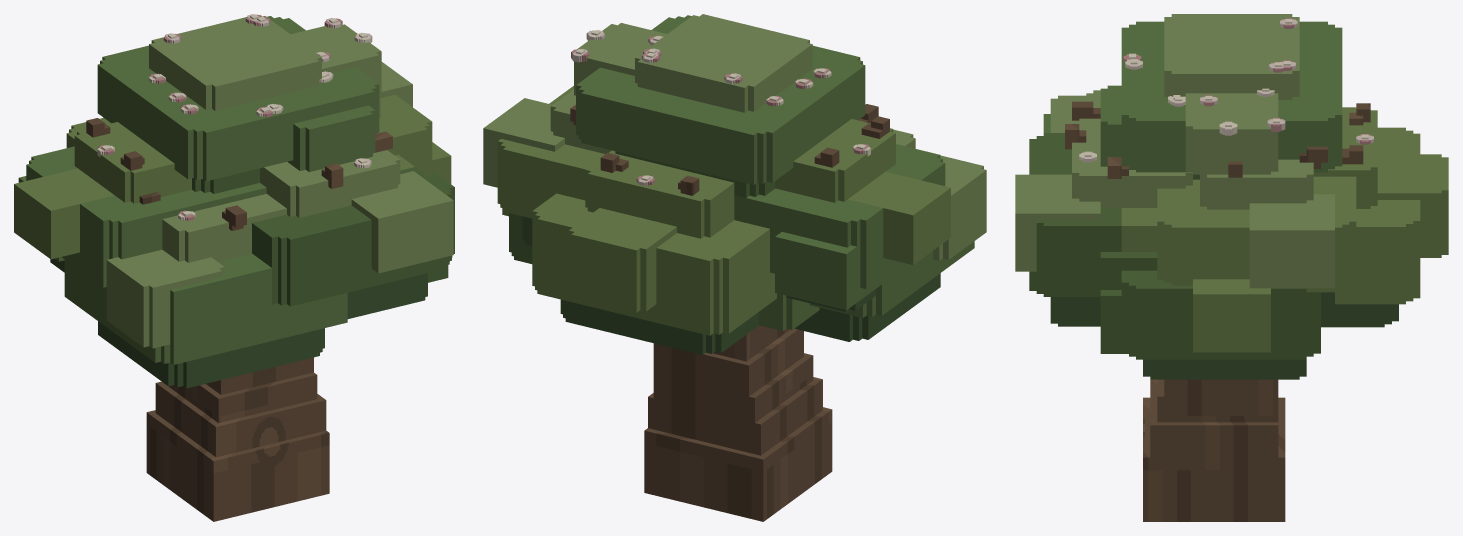
Rendered from apple_ancient_spring.glb.
3 renders of one model, left to right at view 1: azimuth 30°, elevation 25°; view 2: azimuth 150°, elevation 25°; view 3: azimuth 270°, elevation 25°, orthographic. The views are drawn at different scales.
Visible parts, largest first — view 1: VoxelVisual; view 2: VoxelVisual; view 3: VoxelVisual.
Part boxes in pixels (x1=…): VoxelVisual: x1=14, y1=14, x2=454, y2=521; VoxelVisual: x1=483, y1=14, x2=986, y2=521; VoxelVisual: x1=1015, y1=14, x2=1448, y2=521.
Size of what is drawn, in the model's own units: 17.25 by 17.69 by 15.25.
